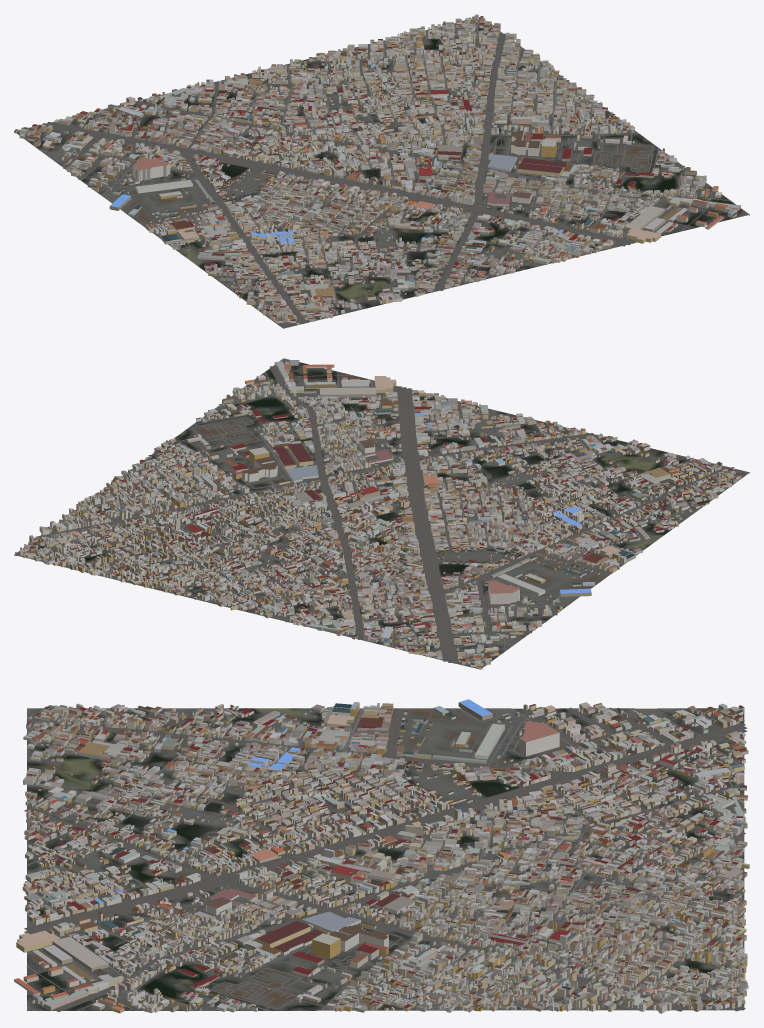
The picture shows the model from 3 angles, top to bottom: view 1: azimuth 30°, elevation 25°; view 2: azimuth 150°, elevation 25°; view 3: azimuth 270°, elevation 25°; orthographic projection. The views are drawn at different scales.
Visible parts, largest first — view 1: buildings, ground, roads; view 2: buildings, ground, roads; view 3: buildings, ground, roads.
Part boxes in pixels (<box>): buildings: <box>14,14,740,324</box>; ground: <box>16,19,749,328</box>; roads: <box>25,17,747,324</box>; buildings: <box>20,360,741,669</box>; ground: <box>14,358,749,669</box>; roads: <box>15,360,743,665</box>; buildings: <box>14,699,749,1013</box>; ground: <box>27,708,744,1010</box>; roads: <box>24,707,747,1011</box>.
Size of the model in its own units: 1438 by 35.63 by 1437.
